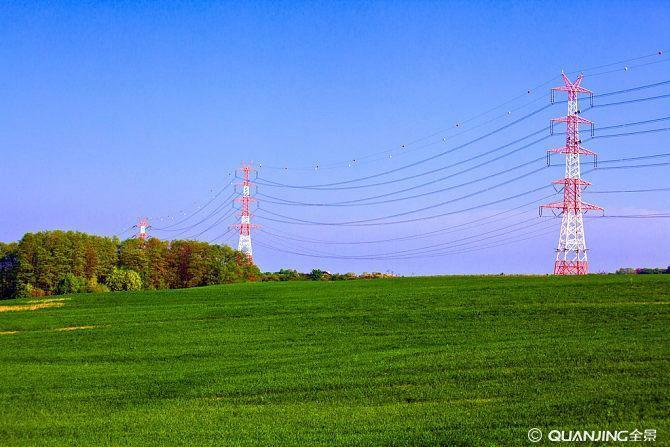power_tower: (532, 60, 606, 277), (219, 154, 266, 279), (129, 214, 156, 242)
